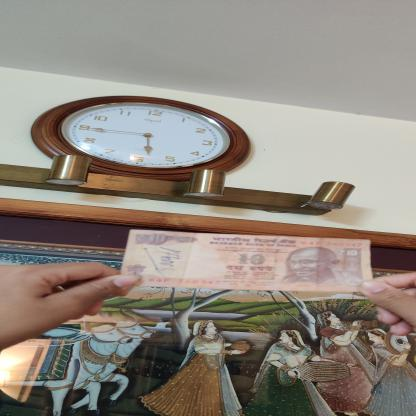Old10Front: (118, 229, 374, 292)
